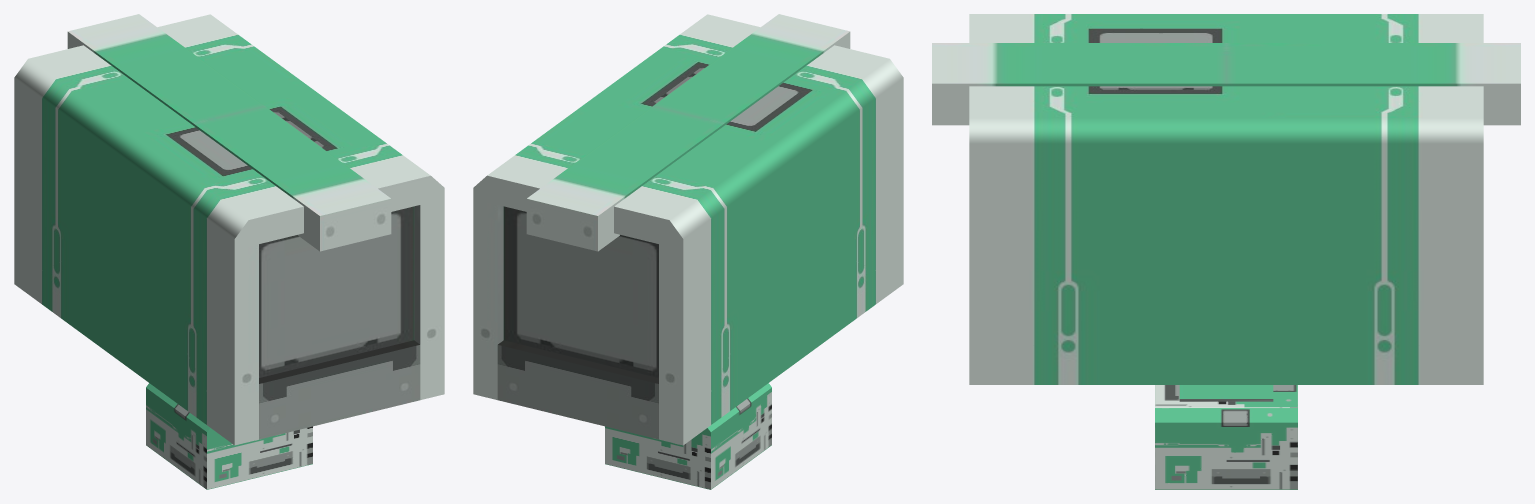
3 renders of one model, left to right at view 1: azimuth 30°, elevation 25°; view 2: azimuth 150°, elevation 25°; view 3: azimuth 270°, elevation 25°, orthographic. The views are drawn at different scales.
Parts seen in each view (by area): view 1: inserter-2; view 2: inserter-2; view 3: inserter-2.
Part boxes in pixels (left/top/right/bottom): inserter-2: left=14, top=14, right=444, bottom=489; inserter-2: left=473, top=14, right=903, bottom=489; inserter-2: left=932, top=14, right=1520, bottom=489.
Size of the model in its own units: 0.99 by 1.53 by 2.06.
2 materials, 2 textured.
